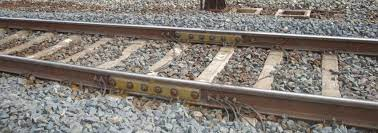insulated joint: (106, 75, 202, 107), (173, 32, 245, 46)
